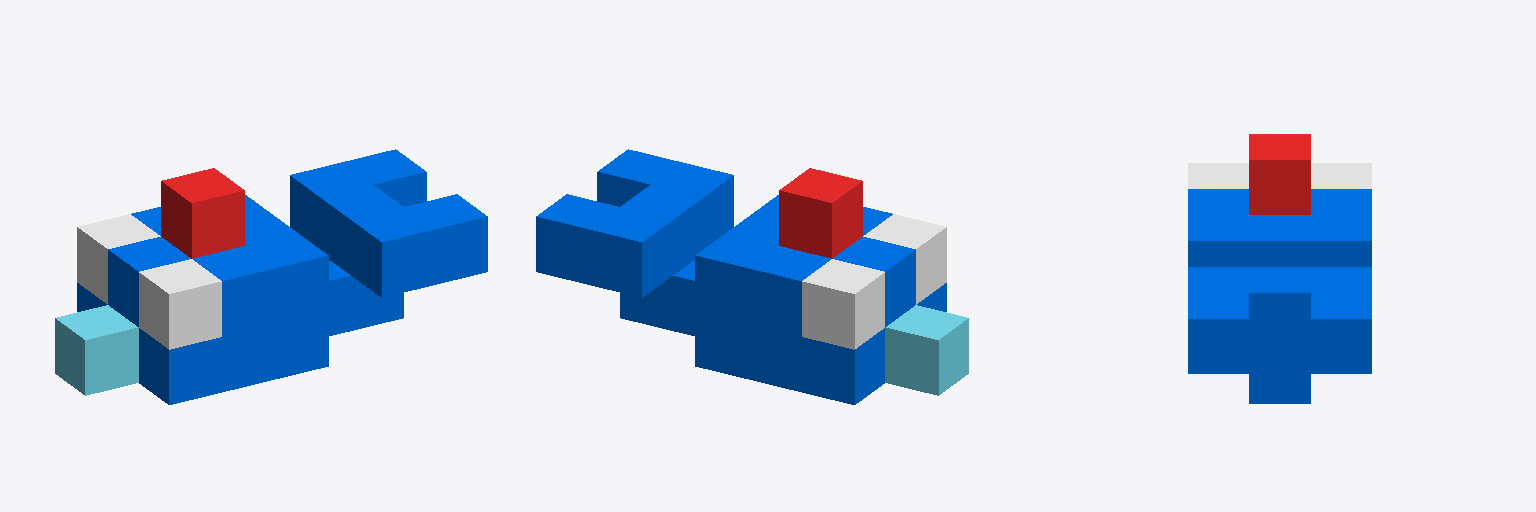
The picture shows the model from 3 angles: view 1: azimuth 30°, elevation 25°; view 2: azimuth 150°, elevation 25°; view 3: azimuth 270°, elevation 25°; orthographic projection.
Visible parts, largest first — view 1: object 1; view 2: object 1; view 3: object 1.
Part boxes in pixels (left/top/right/bottom): object 1: left=55, top=149, right=487, bottom=404; object 1: left=536, top=149, right=968, bottom=404; object 1: left=1188, top=134, right=1371, bottom=403.
Bounding box in the file's own units: 0.7 × 0.3 × 0.3.
Materials: 1 (1 with a texture image).